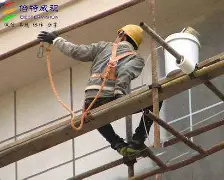safety belt: (91, 42, 131, 84)
